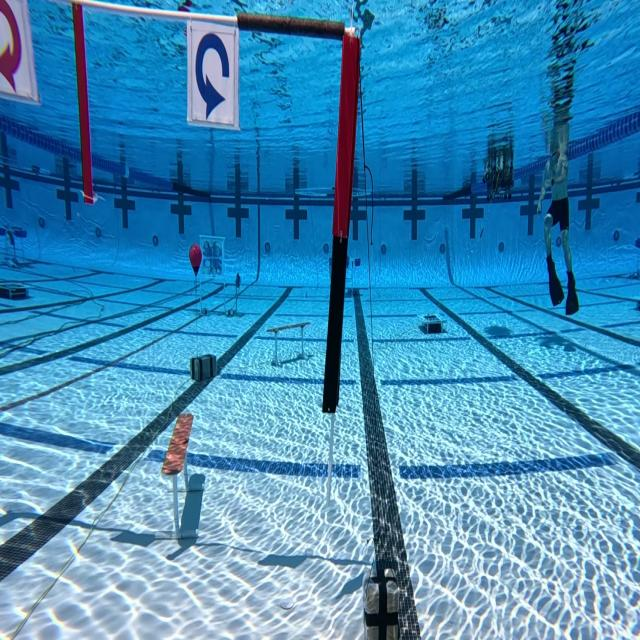blue_side: (185, 20, 239, 128)
red_side: (0, 0, 37, 101)
